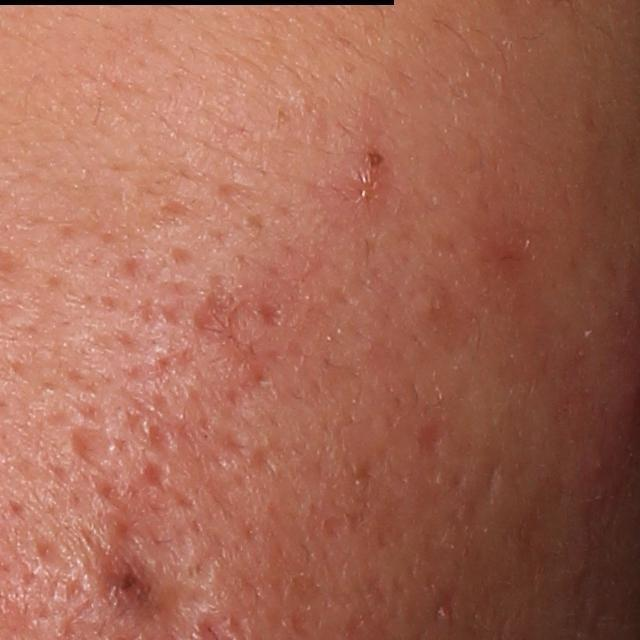atrophic_scar: (78, 482, 196, 634), (192, 277, 283, 381), (68, 425, 122, 486), (428, 577, 465, 630), (209, 176, 260, 214), (32, 537, 76, 579), (418, 420, 448, 458), (476, 461, 506, 499)
comedo: (411, 288, 460, 323)
